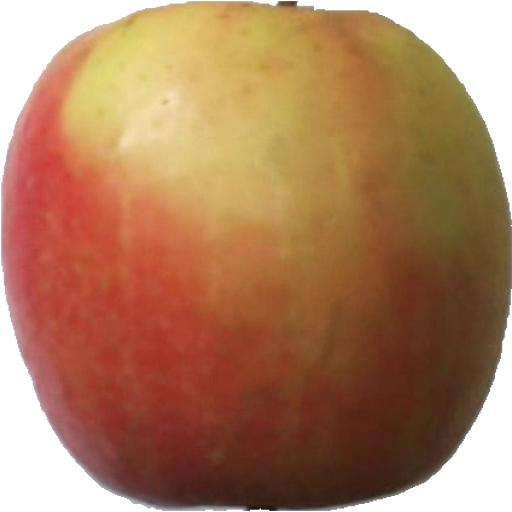apple-ripe: (0, 1, 512, 512)
